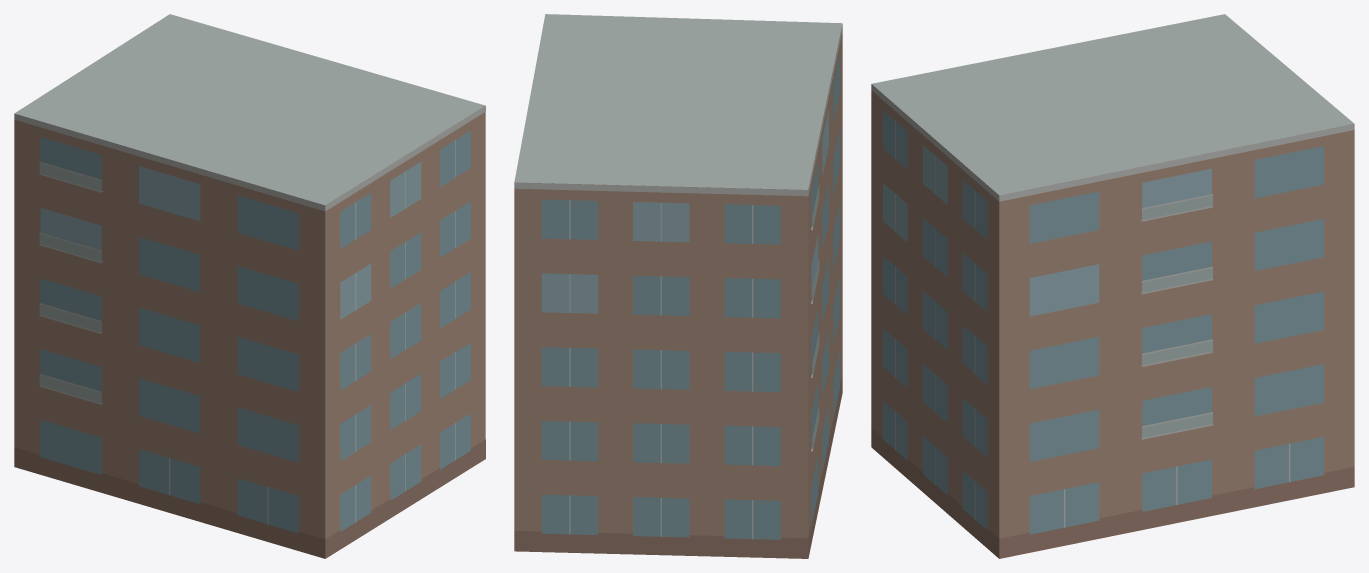
File: survey-upis-32828242.glb
The picture shows the model from 3 angles, left to right: view 1: azimuth 30°, elevation 25°; view 2: azimuth 150°, elevation 25°; view 3: azimuth 270°, elevation 25°; orthographic projection. The views are drawn at different scales.
Visible parts, largest first — view 1: survey-upis-32828242.tmp; view 2: survey-upis-32828242.tmp; view 3: survey-upis-32828242.tmp.
Boxes of the visible parts, x1,y1,x2,y2 form: survey-upis-32828242.tmp: (14,14,485,558); survey-upis-32828242.tmp: (514,14,842,558); survey-upis-32828242.tmp: (871,14,1354,558).
Size of the model in its own units: 15.32 by 14.3 by 17.24.
